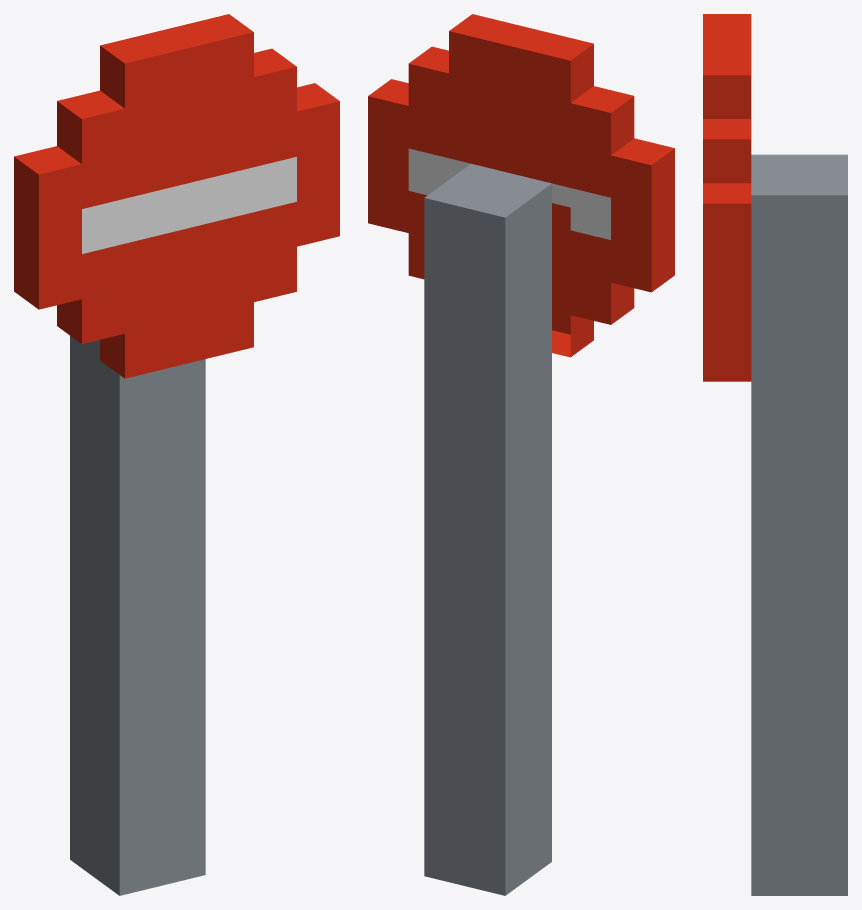
Rendered from Stop.gltf.
3 views of the same model, side by side, from view 1: azimuth 30°, elevation 25°; view 2: azimuth 150°, elevation 25°; view 3: azimuth 270°, elevation 25° (orthographic). The views are drawn at different scales.
Parts seen in each view (by area): view 1: Object_2; view 2: Object_2; view 3: Object_2.
Boxes of the visible parts, bbox=[...] form: Object_2: bbox=[14, 14, 339, 895]; Object_2: bbox=[368, 14, 674, 895]; Object_2: bbox=[703, 14, 847, 895].
Size of the model in its own units: 0.7 by 1.9 by 0.3.
Materials: 1 (1 with a texture image).
